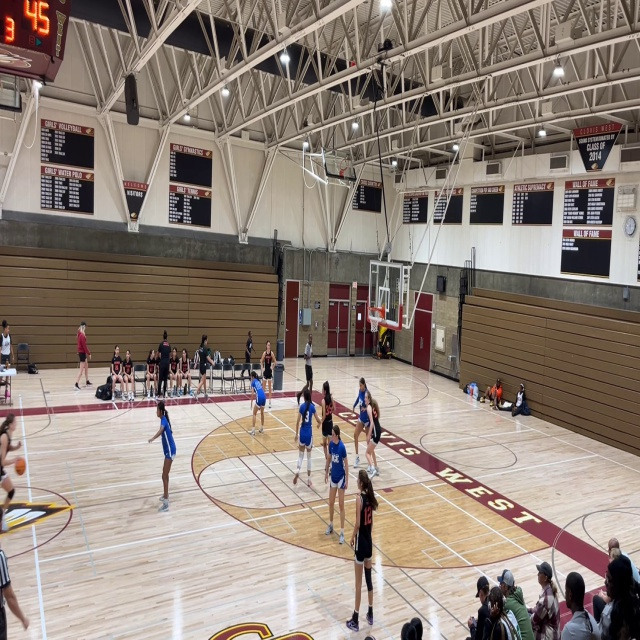Basketball: (15, 458, 26, 475)
